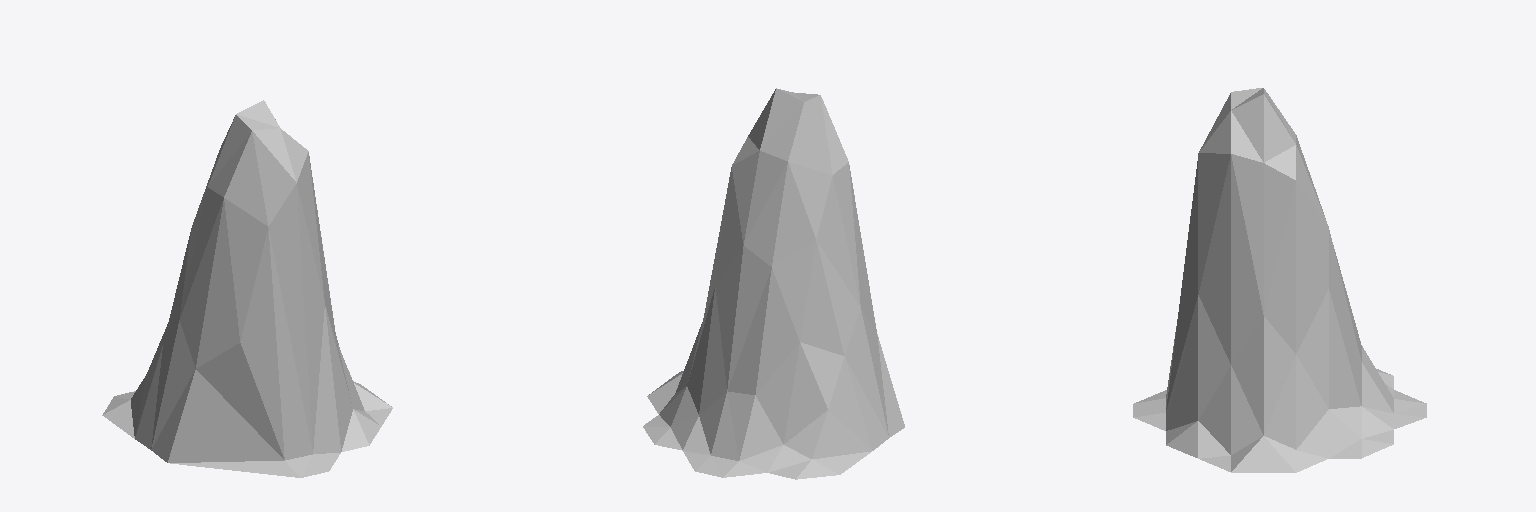
File: tree_38.obj
3 views of the same model, side by side, from view 1: azimuth 30°, elevation 25°; view 2: azimuth 150°, elevation 25°; view 3: azimuth 270°, elevation 25° (orthographic).
Visible parts, largest first — view 1: tree_38_minus_dtm; view 2: tree_38_minus_dtm; view 3: tree_38_minus_dtm.
Part boxes in pixels (bbox=[...]): tree_38_minus_dtm: bbox=[102, 100, 392, 477]; tree_38_minus_dtm: bbox=[643, 88, 904, 479]; tree_38_minus_dtm: bbox=[1133, 88, 1426, 472].
Size of the model in its own units: 8 by 10.95 by 9.